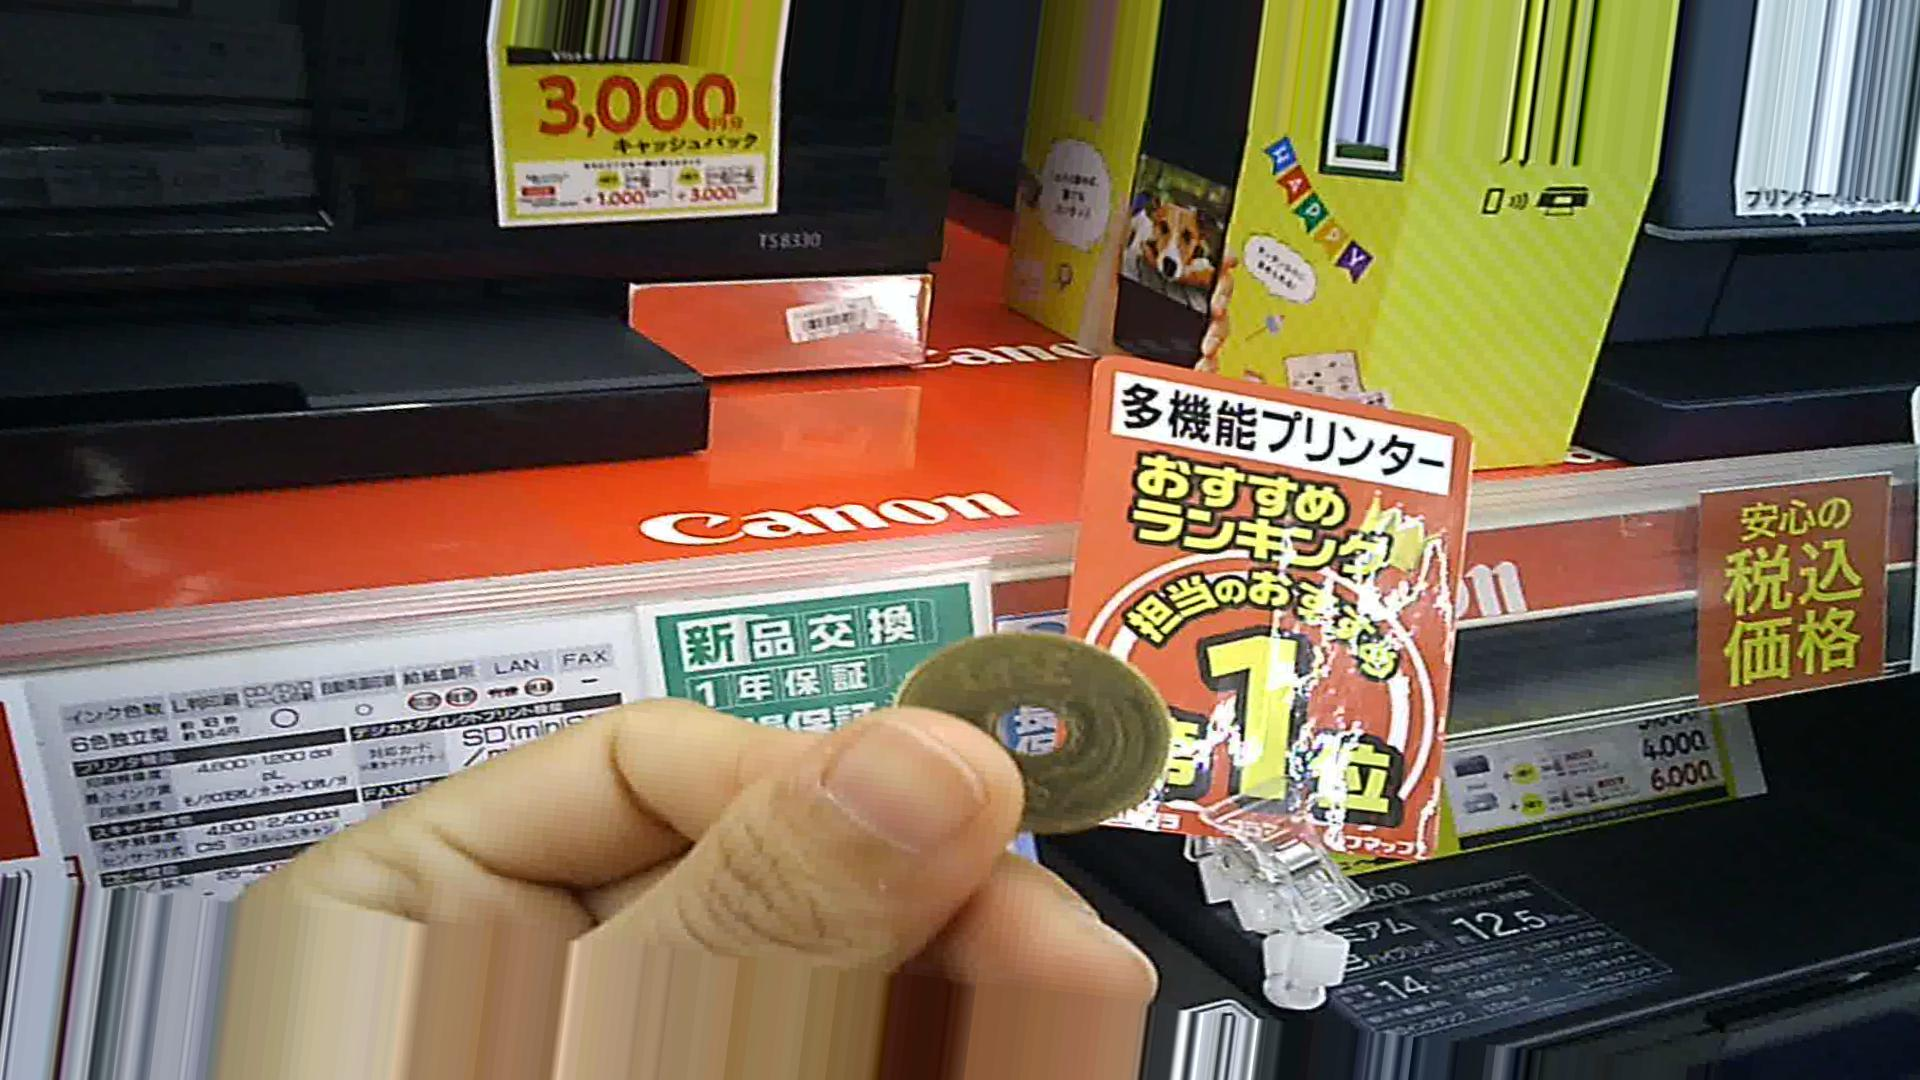5 Yen: (891, 628, 1180, 851)
